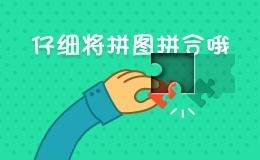target: (130, 33, 173, 73)
